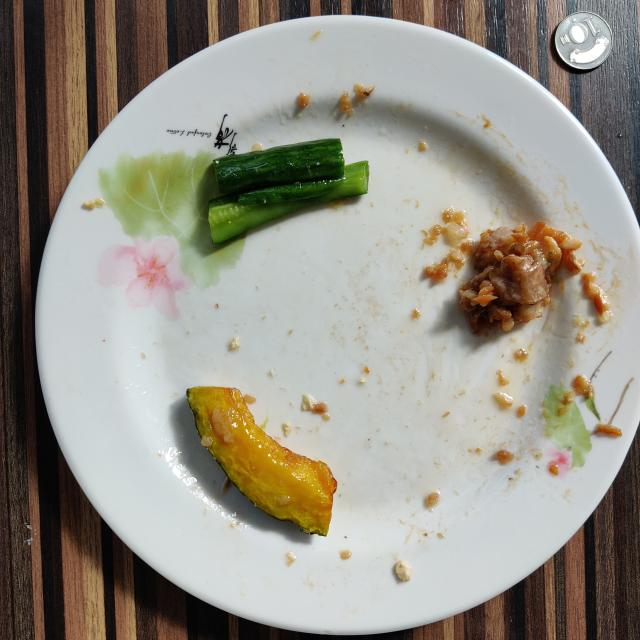Kabayaki sea bream fillet: (459, 222, 582, 334)
coin: (555, 11, 612, 70)
cucumber: (209, 139, 369, 244)
pumpkin: (188, 386, 338, 536)
